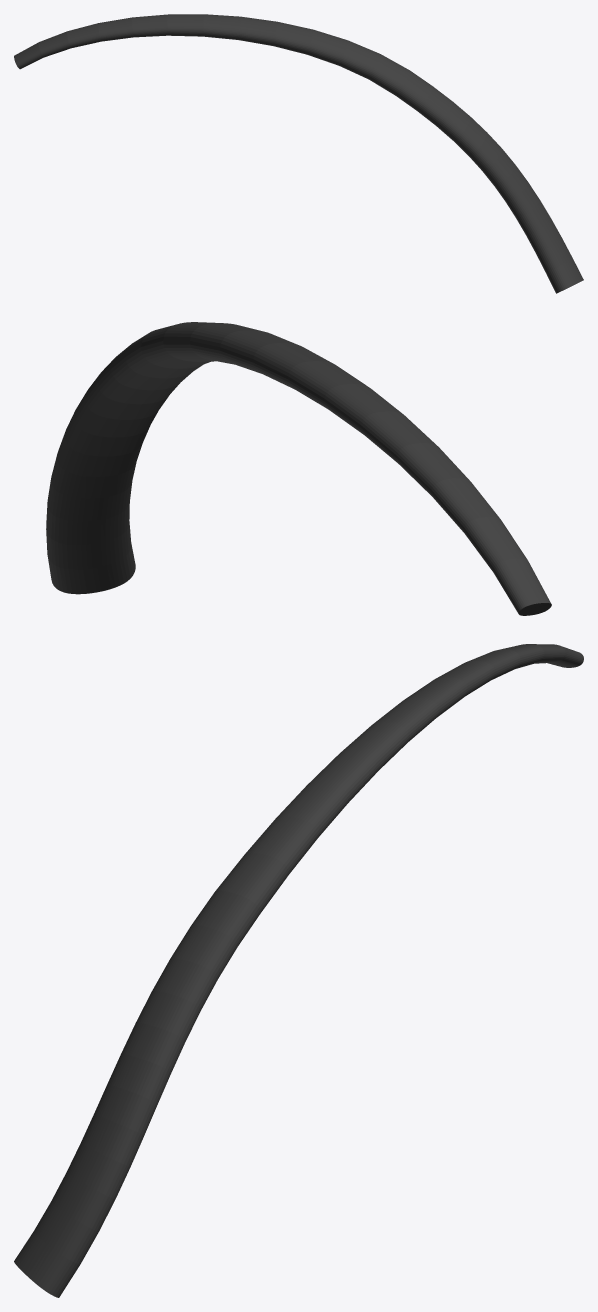
File: N_7_facial_stapedius.glb
3 views of the same model, one above another, from view 1: azimuth 30°, elevation 25°; view 2: azimuth 150°, elevation 25°; view 3: azimuth 270°, elevation 25° (orthographic). The views are drawn at different scales.
Parts seen in each view (by area): view 1: N_7_facial_stapedius; view 2: N_7_facial_stapedius; view 3: N_7_facial_stapedius.
Part boxes in pixels (bbox=[...]): N_7_facial_stapedius: bbox=[14, 14, 583, 293]; N_7_facial_stapedius: bbox=[46, 322, 551, 615]; N_7_facial_stapedius: bbox=[14, 644, 583, 1297].
Size of the model in its own units: 0.00574 by 0.00335 by 0.00432.
Materials: 1 (1 with a texture image).
